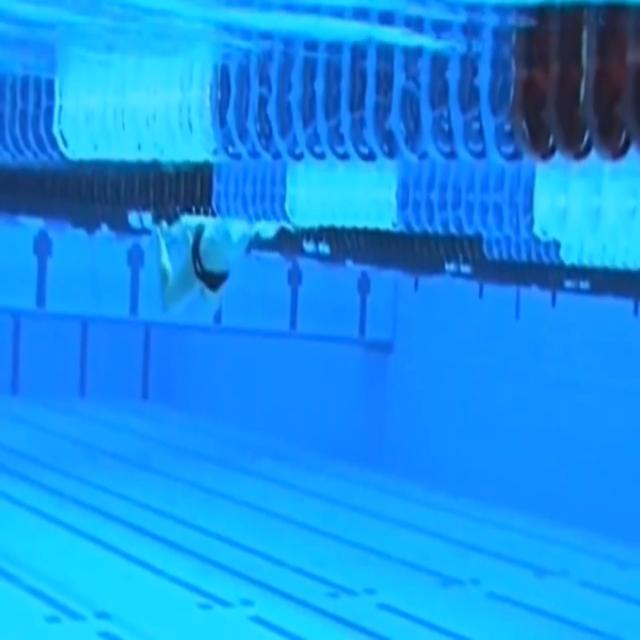Swimming: (149, 213, 266, 314)
